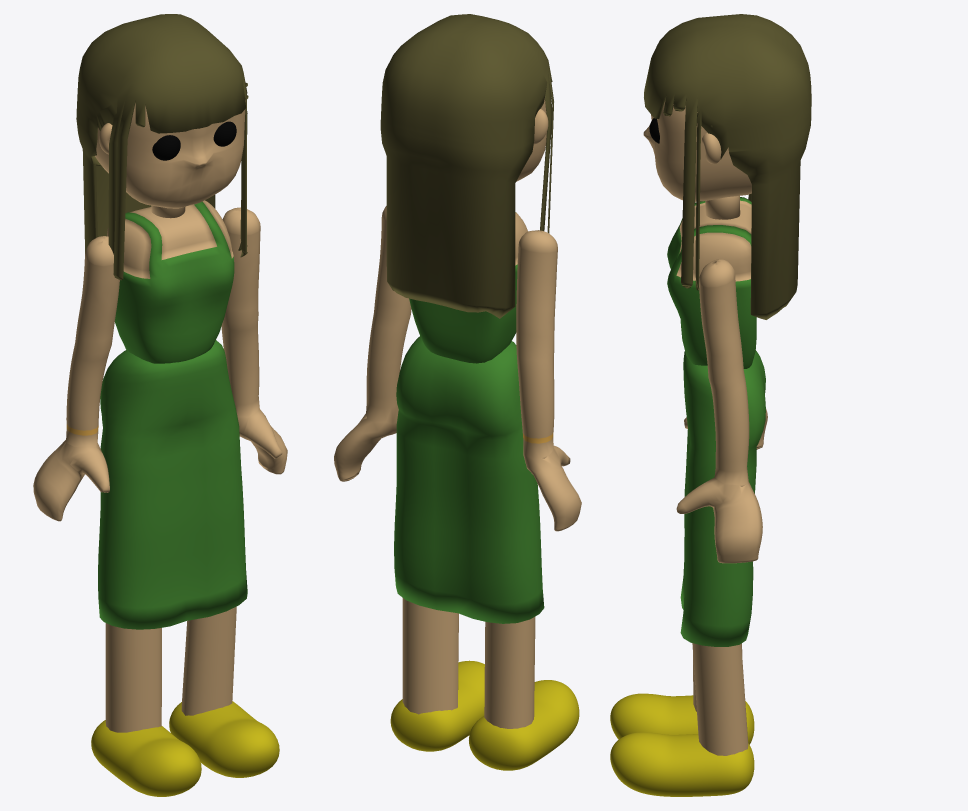
The model's file is femaleNPC.fbx.
3 renders of one model, left to right at view 1: azimuth 30°, elevation 25°; view 2: azimuth 150°, elevation 25°; view 3: azimuth 270°, elevation 25°, orthographic.
Visible parts, largest first — view 1: Sphere.001, Cube.008, NurbsPath.010, NurbsPath.009, Cube.010, BézierCurve.009, BézierCurve.008, Cube.009; view 2: Sphere.001, Cube.008, NurbsPath.010, NurbsPath.009, Cube.009, BézierCurve.009, Cube.010, BézierCurve.008; view 3: Sphere.001, Cube.008, NurbsPath.009, BézierCurve.008, Cube.009, BézierCurve.009.
Boxes of the visible parts, x1,y1,x2,y2 form: Sphere.001: [76, 14, 248, 363]; Cube.008: [98, 340, 247, 629]; NurbsPath.010: [33, 236, 119, 521]; NurbsPath.009: [221, 207, 287, 474]; Cube.010: [105, 623, 161, 732]; BézierCurve.009: [91, 720, 201, 796]; BézierCurve.008: [169, 701, 279, 777]; Cube.009: [181, 606, 236, 715]; Sphere.001: [380, 14, 553, 363]; Cube.008: [394, 336, 544, 623]; NurbsPath.010: [516, 230, 581, 531]; NurbsPath.009: [334, 206, 411, 481]; Cube.009: [402, 598, 458, 714]; BézierCurve.009: [469, 680, 579, 770]; Cube.010: [484, 617, 535, 728]; BézierCurve.008: [390, 660, 484, 751]; Sphere.001: [643, 14, 811, 368]; Cube.008: [680, 350, 765, 646]; NurbsPath.009: [676, 259, 762, 563]; BézierCurve.008: [610, 732, 754, 796]; Cube.009: [692, 643, 748, 755]; BézierCurve.009: [610, 693, 754, 744].
Bounding box in the file's own units: 301 × 875 × 365.
